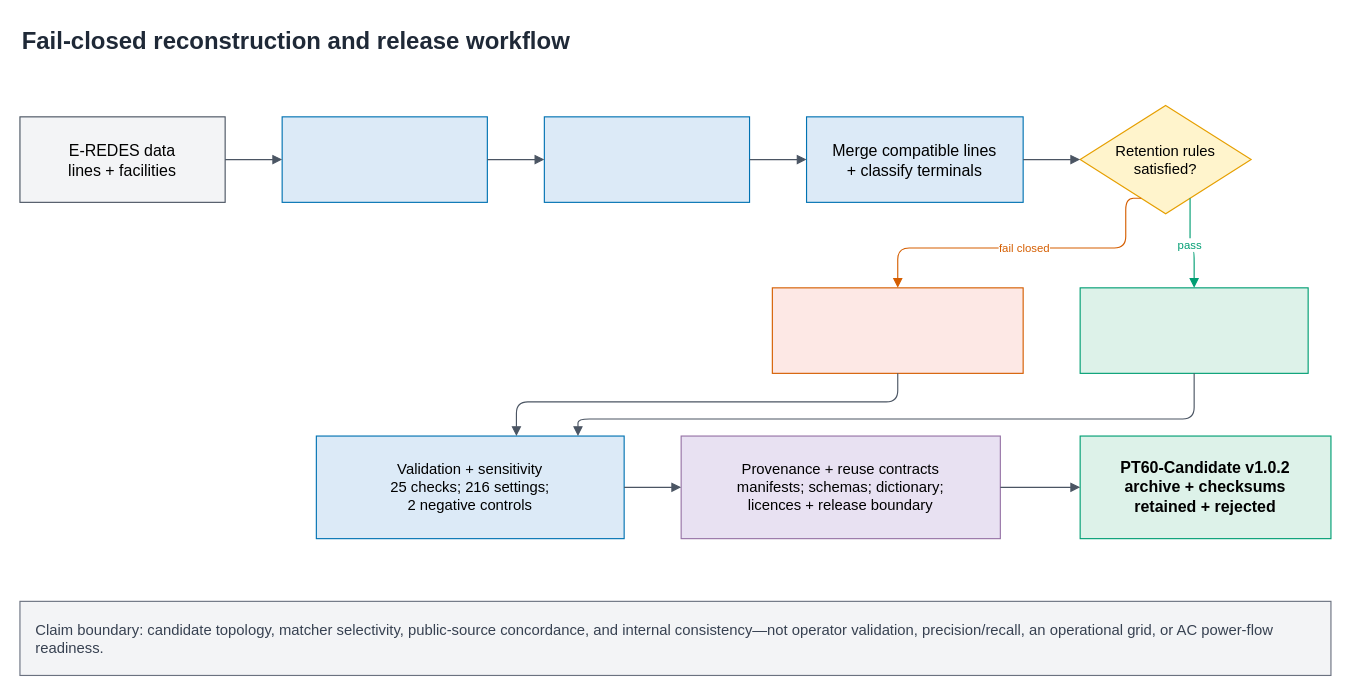
Image size: 1351x695. Some labels were removed from this diagram. Each missing label, with the centre of its shape:
"Downgrade/rejection ledger 983 records + reasons" belongs at (x=897, y=330).
"Match facilities to line endpoints" belongs at (x=646, y=159).
"Normalize + audit schema, geometry, CRS" belongs at (x=384, y=159).
"Retained candidates 358 branches + GraphML" belongs at (x=1193, y=330).
